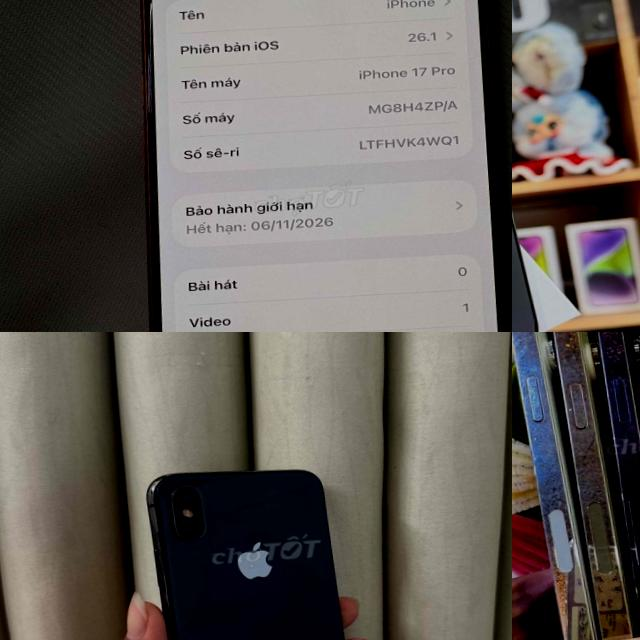gen_14: (512, 332, 640, 640), (512, 9, 540, 332)
gen_17: (120, 0, 512, 332)
gen_x_xs: (147, 470, 342, 640)
scratch: (528, 398, 568, 516), (613, 428, 640, 532), (570, 434, 606, 506), (546, 332, 588, 386), (589, 332, 635, 374), (512, 332, 539, 383)
